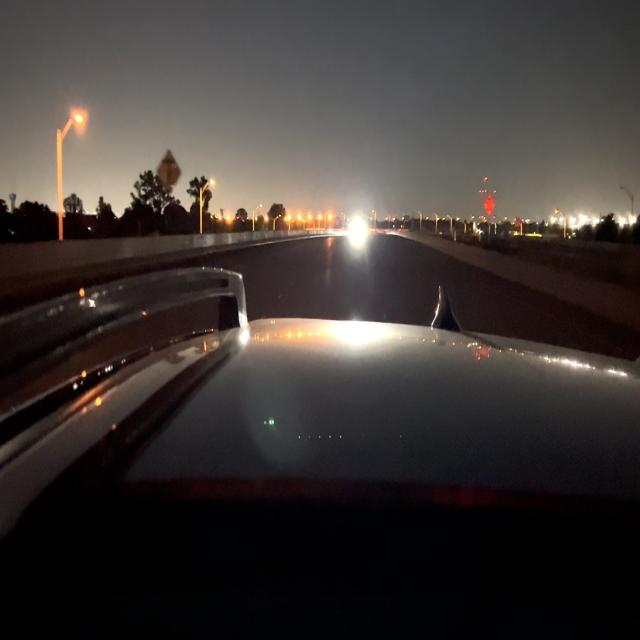back-of-sign: (158, 152, 182, 191)
